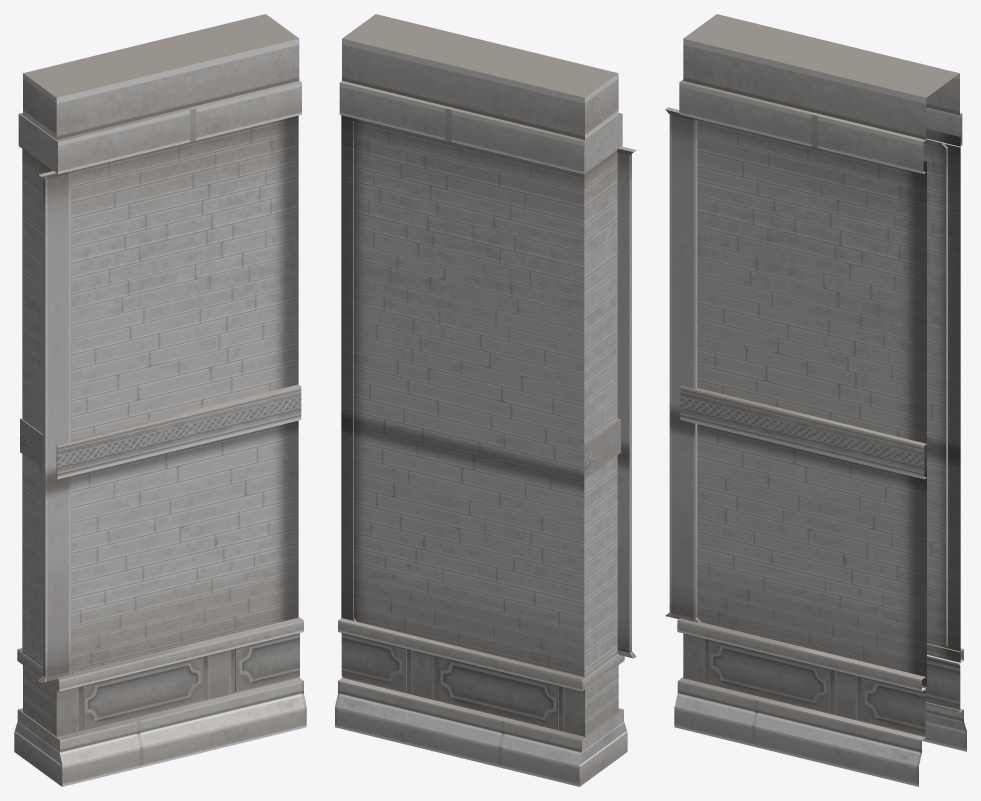
Rendered from Stage01_One_Wall03.fbx.
The picture shows the model from 3 angles, left to right: view 1: azimuth 30°, elevation 25°; view 2: azimuth 150°, elevation 25°; view 3: azimuth 330°, elevation 25°; orthographic projection.
Visible parts, largest first — view 1: S1_mod_wall_yw004; view 2: S1_mod_wall_yw004; view 3: S1_mod_wall_yw004.
Part boxes in pixels (bbox=[...]): S1_mod_wall_yw004: bbox=[14, 14, 306, 786]; S1_mod_wall_yw004: bbox=[335, 14, 636, 786]; S1_mod_wall_yw004: bbox=[665, 14, 966, 786].
Size of the model in its own units: 522 by 1314 by 167.
